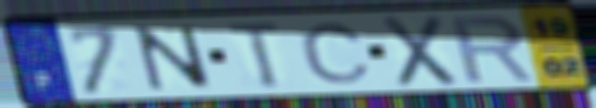7: (67, 24, 122, 95)
C: (296, 21, 375, 86)
N: (129, 24, 218, 93)
R: (447, 14, 538, 85)
T: (223, 19, 287, 91)
X: (378, 13, 461, 89)
